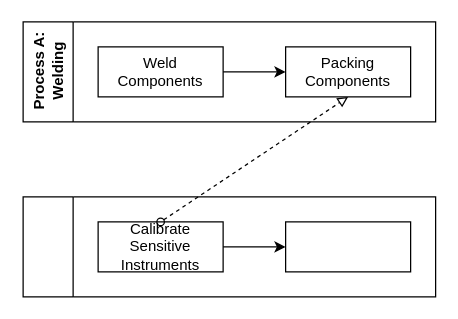
Some shapes in this 458 by 319 pixel diagram are drawn without their labels. The box of each missing label's shape, as (x1, y1, x2, y2) in pixels:
Package Painted Components: (284, 221, 411, 272)
Process B: Precision Calibration: (22, 196, 436, 297)
